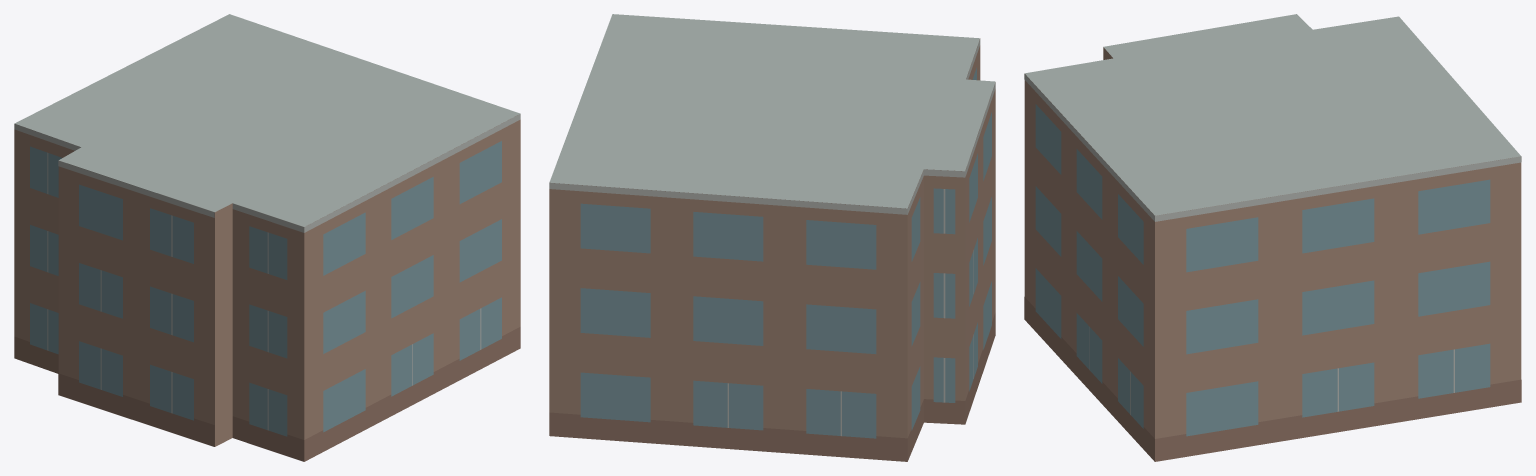
Rendered from survey-upis-32881769.glb.
3 views of the same model, side by side, from view 1: azimuth 30°, elevation 25°; view 2: azimuth 150°, elevation 25°; view 3: azimuth 270°, elevation 25° (orthographic). The views are drawn at different scales.
Visible parts, largest first — view 1: survey-upis-32881769.tmp; view 2: survey-upis-32881769.tmp; view 3: survey-upis-32881769.tmp.
Part boxes in pixels (x1=…): survey-upis-32881769.tmp: x1=14, y1=14, x2=520, y2=461; survey-upis-32881769.tmp: x1=549, y1=14, x2=995, y2=461; survey-upis-32881769.tmp: x1=1024, y1=14, x2=1521, y2=461.
Bounding box in the file's own units: 17.24 × 9.8 × 17.95.
